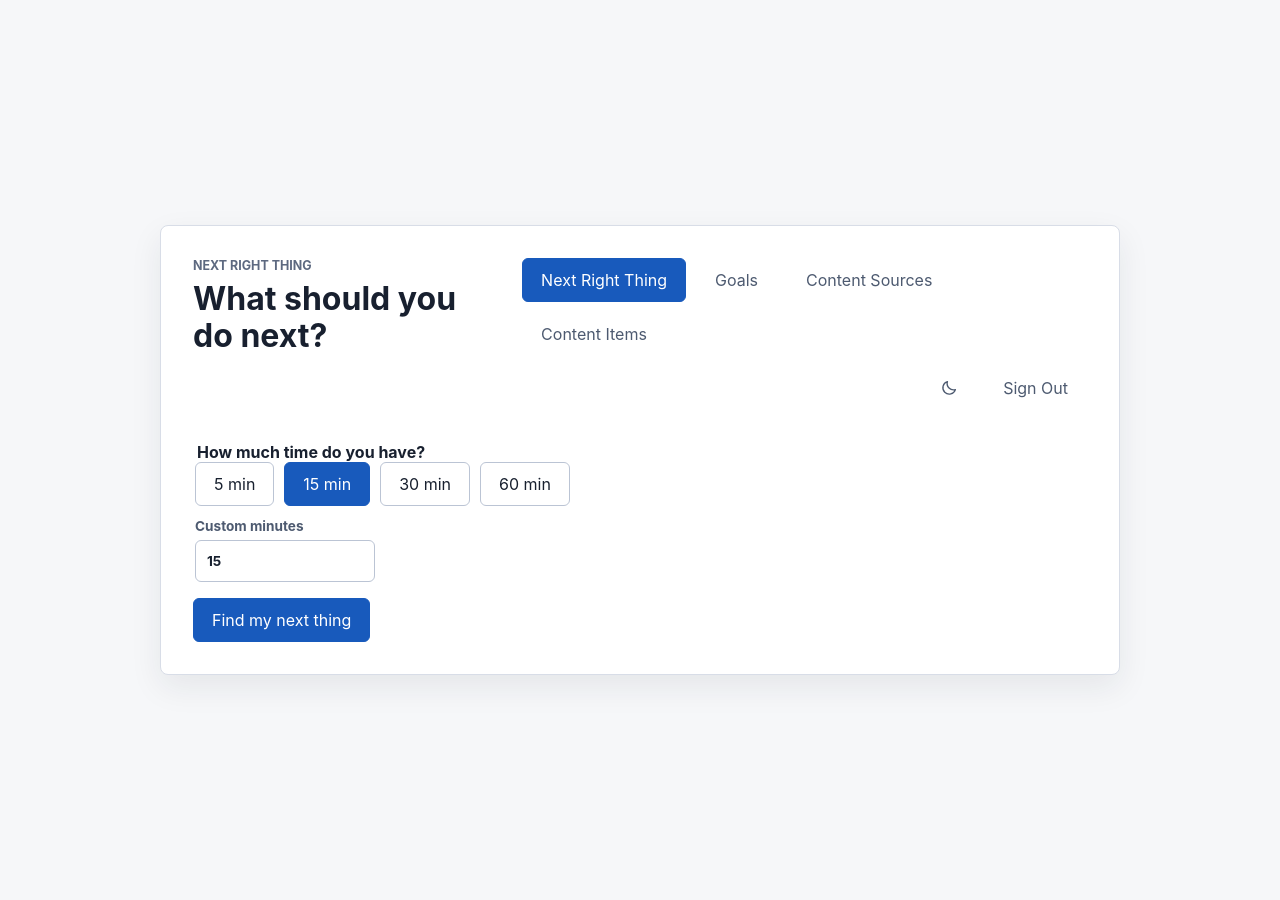
RecommendationsPage › requests a recommendation and renders its user-visible details
This screenshot has width=1280, height=900.
Expected: the button "5 min" is shown, [195, 462, 274, 506]
Click the button "15 min" at (327, 484), box [284, 462, 370, 506]
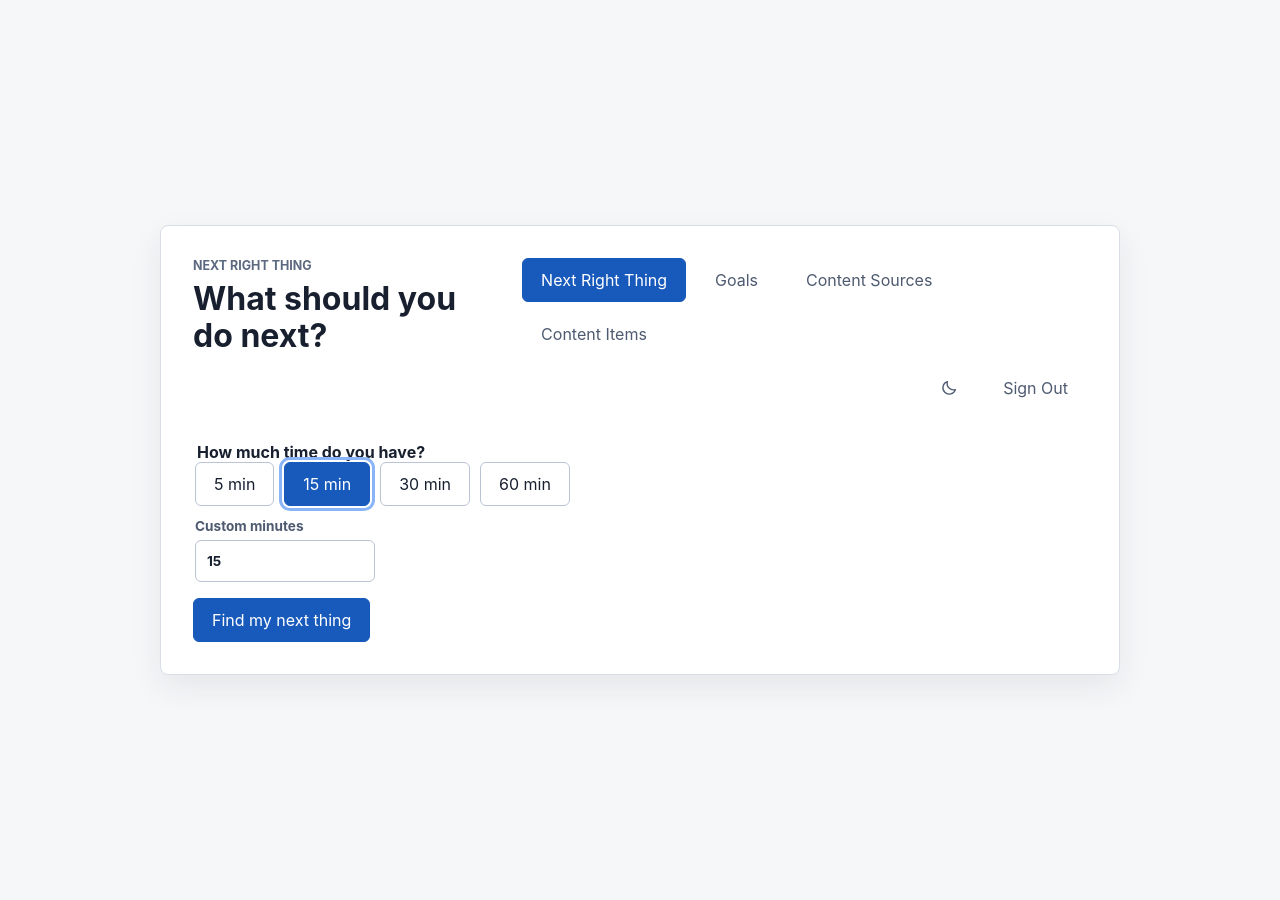
Click the button "Find my next thing" at (282, 620), box [193, 598, 370, 642]
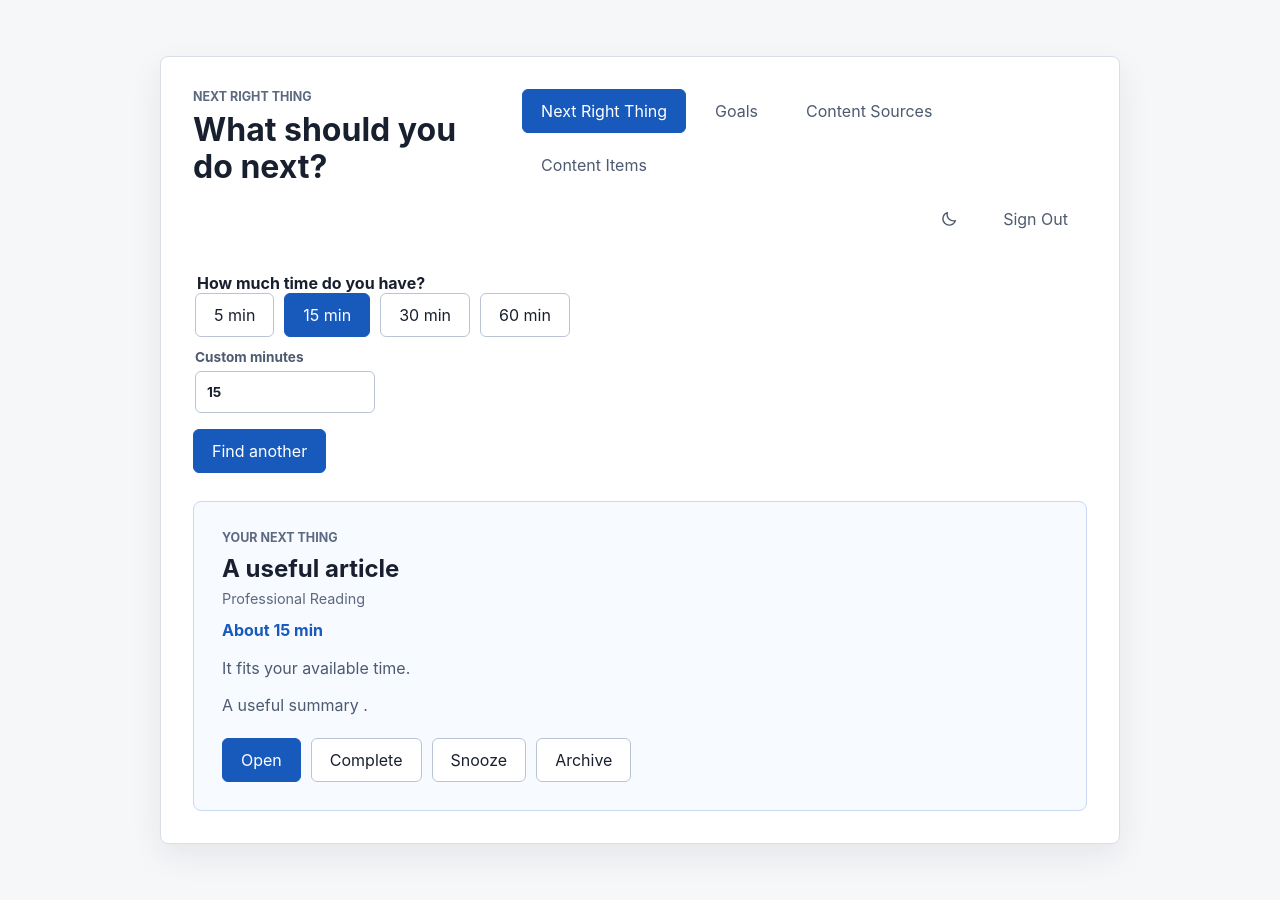
Result: the heading "A useful article" is shown at [222, 554, 399, 583]
Result: the link "Professional Reading" is shown at [222, 590, 365, 607]
Result: the text "About 15 min" is shown at [222, 620, 323, 640]
